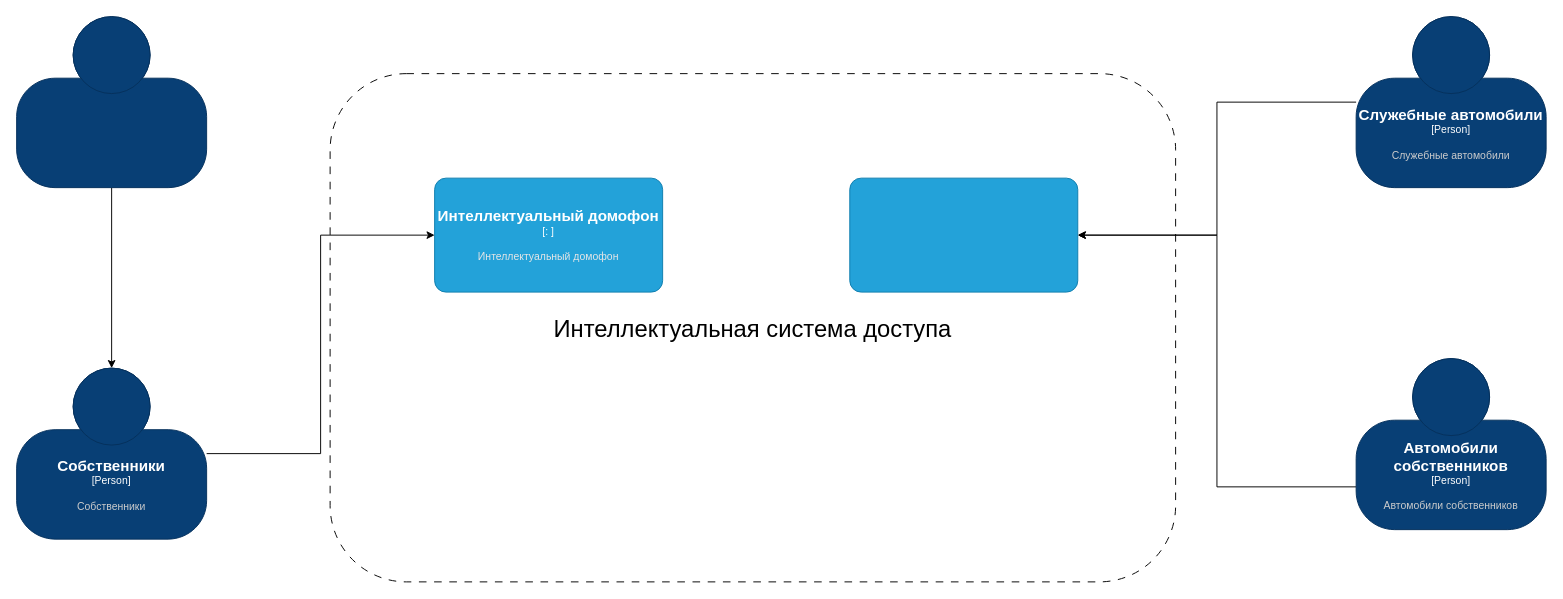
This 1563x599 diagram has some shape labels left out. Each missing label, with the centre of its shape:
"Гости [Person] Гости" goes at pixel 111 102.
"Интеллектуальный шлагбаум [: ] Интеллектуальный шлагбаум" goes at pixel 963 234.
